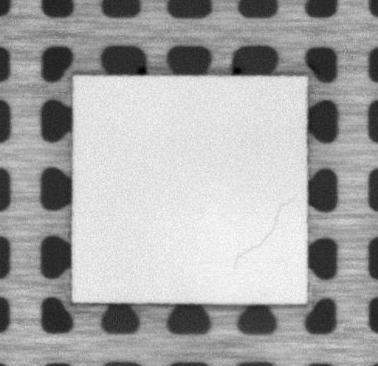DIE_CRACK: (234, 192, 302, 267)
